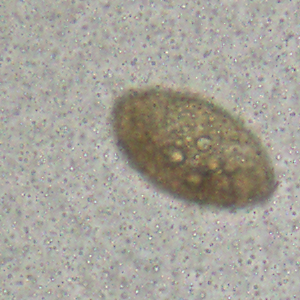Fasciola_hepatica_egg: (112, 86, 275, 207)
